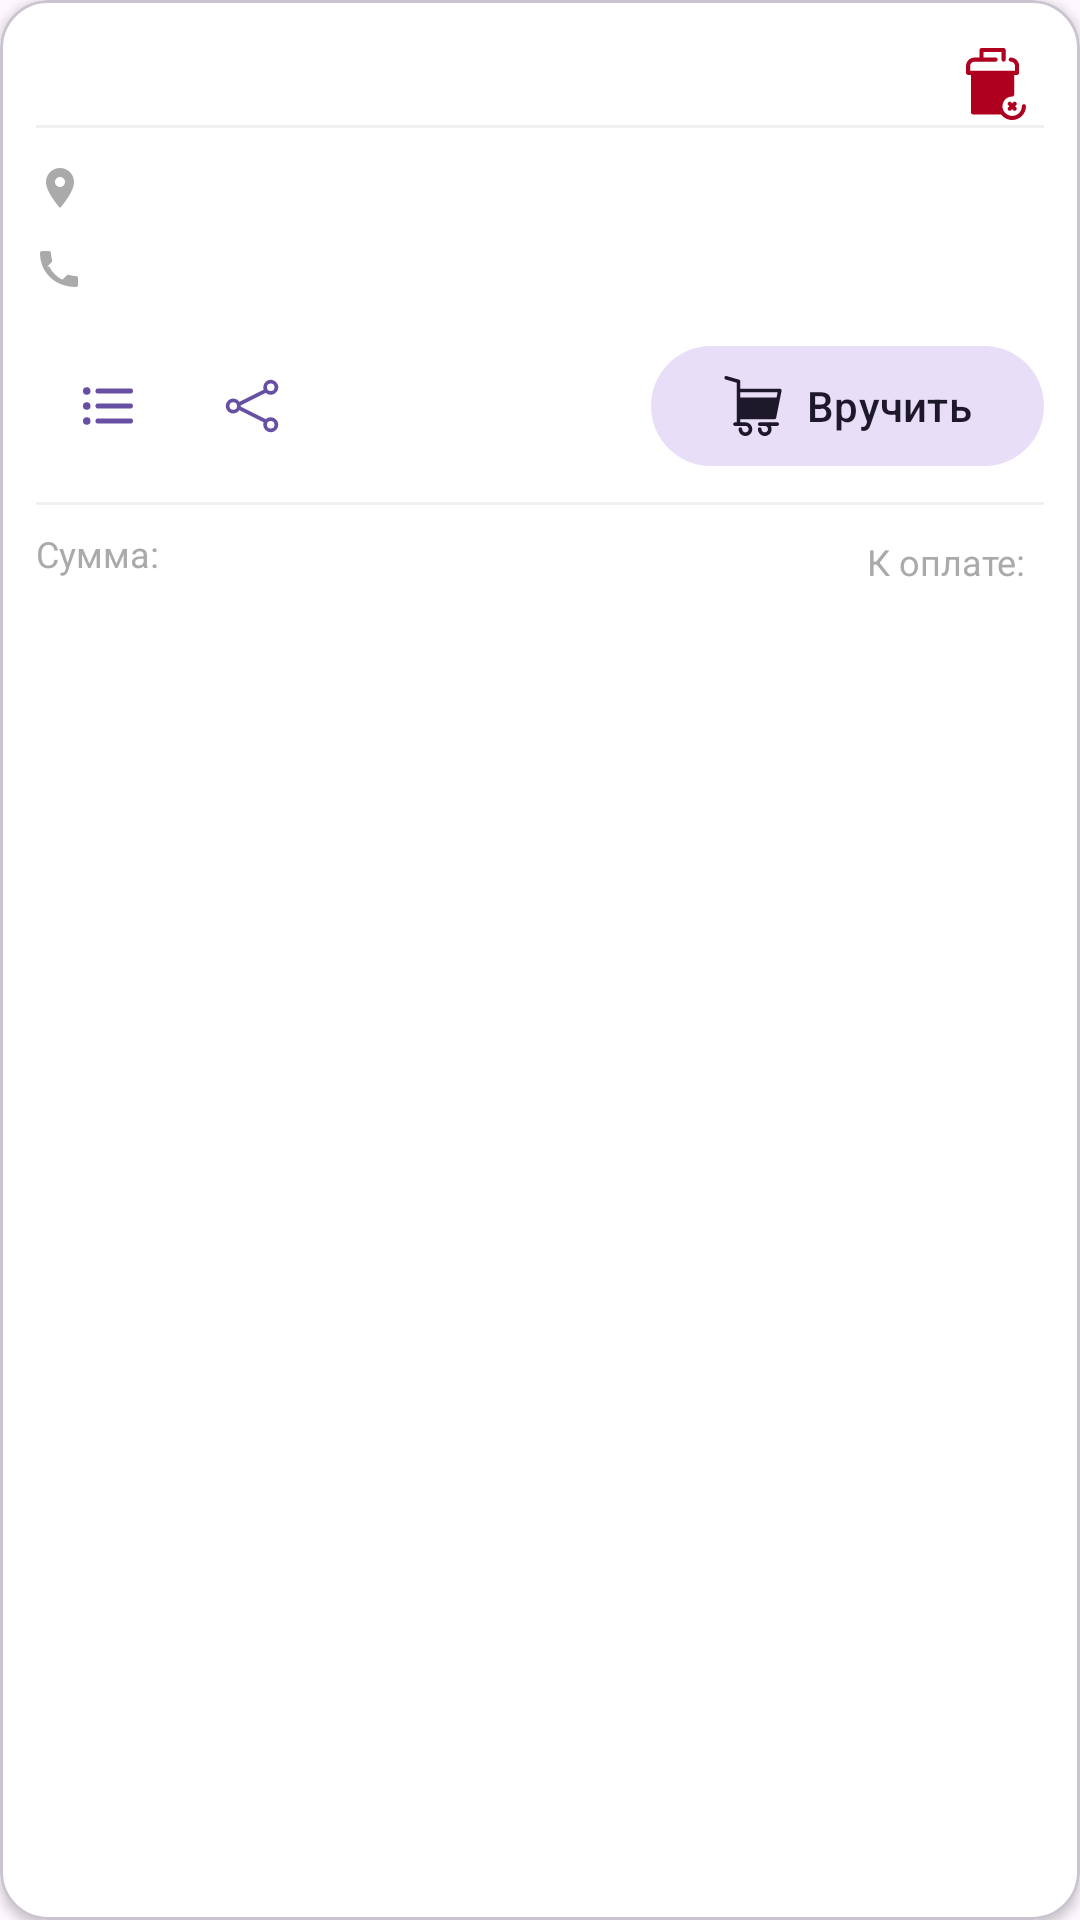

Named icons in this screenshot (1080 x 1920) and their bounding boxes, [x1=x1, y1=y1, x2=x2, y2=y2]:
list goods: [x1=83, y1=387, x2=133, y2=425]
location on: [x1=46, y1=168, x2=74, y2=208]
phone: [x1=40, y1=251, x2=78, y2=287]
Удалить из доставки: [x1=966, y1=48, x2=1026, y2=120]
